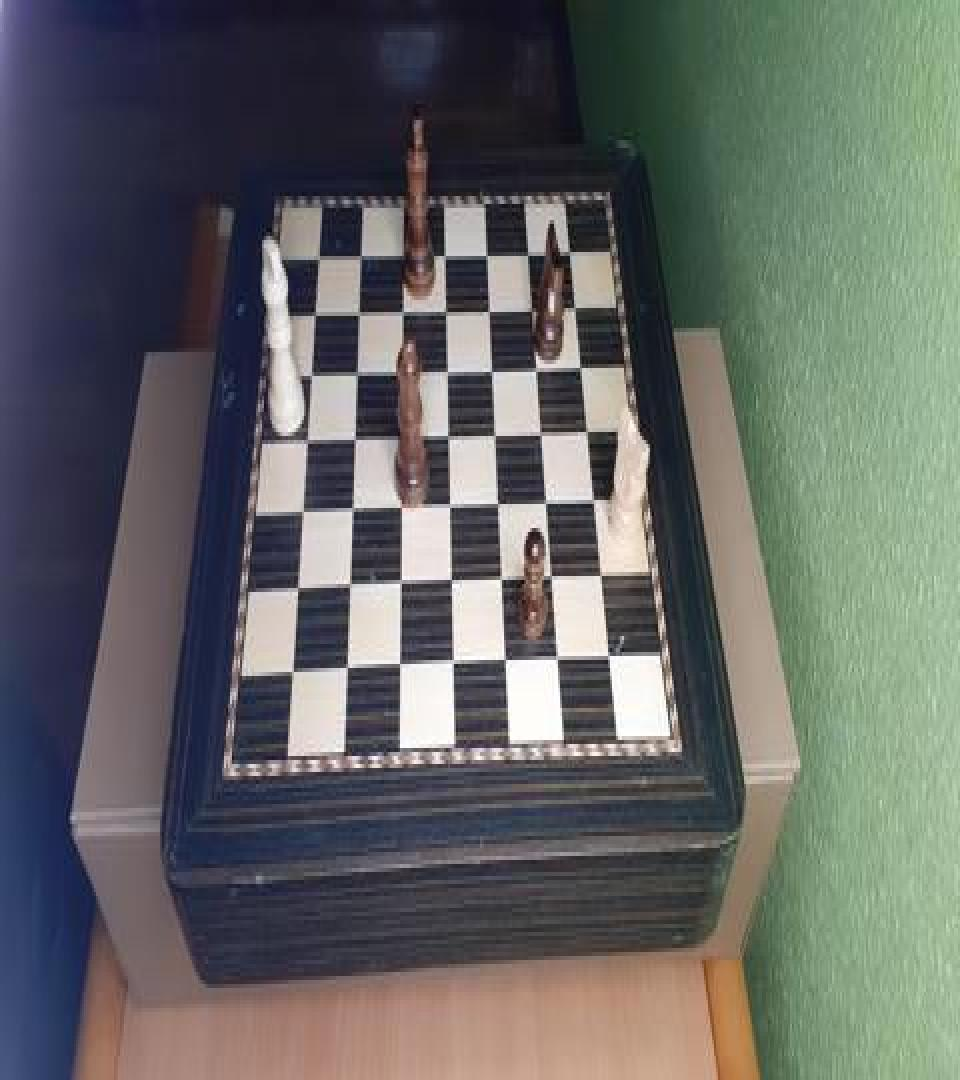xcorner: (311, 240, 323, 264), (307, 298, 319, 322), (303, 360, 315, 384), (299, 428, 311, 452), (294, 500, 306, 524), (289, 580, 301, 604), (284, 664, 296, 688), (355, 240, 367, 264), (353, 298, 365, 322), (350, 360, 362, 384), (348, 426, 360, 450), (345, 498, 357, 522), (342, 576, 354, 600), (339, 662, 351, 686), (398, 238, 410, 262), (398, 296, 410, 320), (397, 358, 409, 382), (396, 424, 408, 448), (396, 496, 408, 520), (395, 574, 407, 598), (394, 660, 406, 684), (441, 238, 453, 262), (442, 296, 454, 320), (443, 358, 455, 382), (444, 424, 456, 448), (446, 494, 458, 518), (447, 572, 459, 596), (448, 656, 460, 680), (484, 238, 496, 262), (486, 294, 498, 318), (489, 356, 501, 380), (492, 422, 504, 446), (495, 494, 507, 518), (498, 570, 510, 594), (502, 654, 514, 678), (526, 238, 538, 262), (530, 294, 542, 318), (534, 354, 546, 378), (539, 420, 551, 444), (544, 492, 556, 516), (549, 568, 561, 592), (555, 650, 567, 674), (568, 236, 580, 260), (574, 292, 586, 316), (580, 354, 592, 378), (586, 418, 598, 442), (593, 490, 605, 514), (600, 566, 612, 590), (608, 648, 620, 672)
